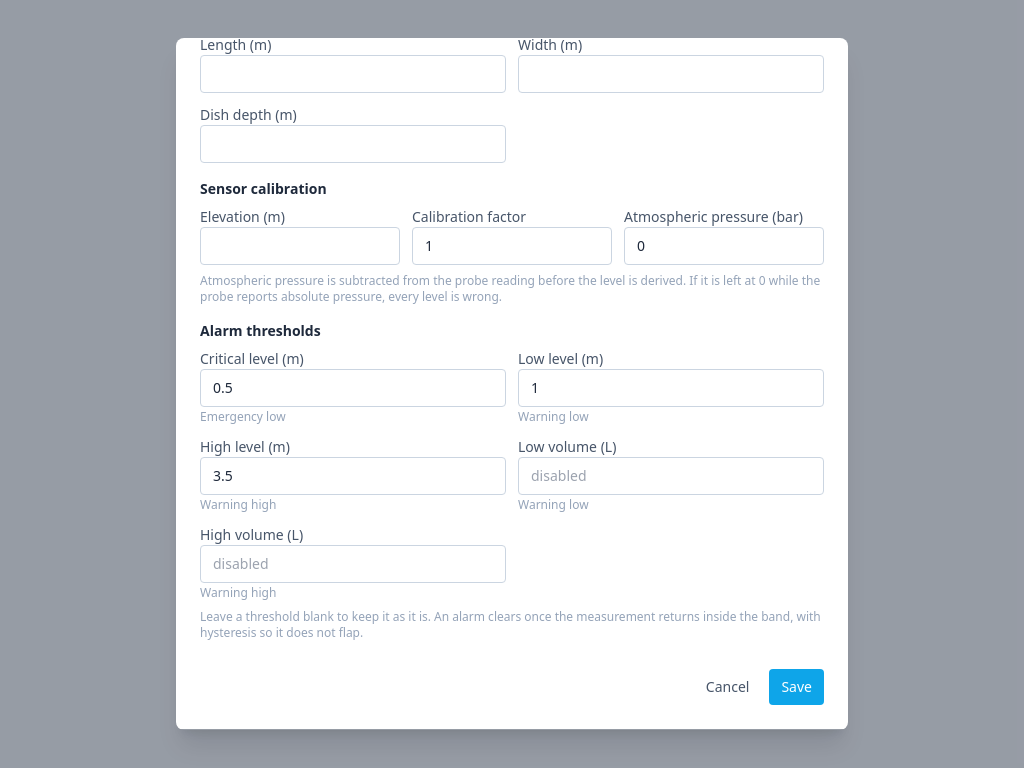
Test case: EditTankDialog › refuses a critical level above the low level and explains why
(page scrolled)
Replace the text in the number field labelled "Critical level (m)" with "5" at (353, 388), box [200,369,506,407]
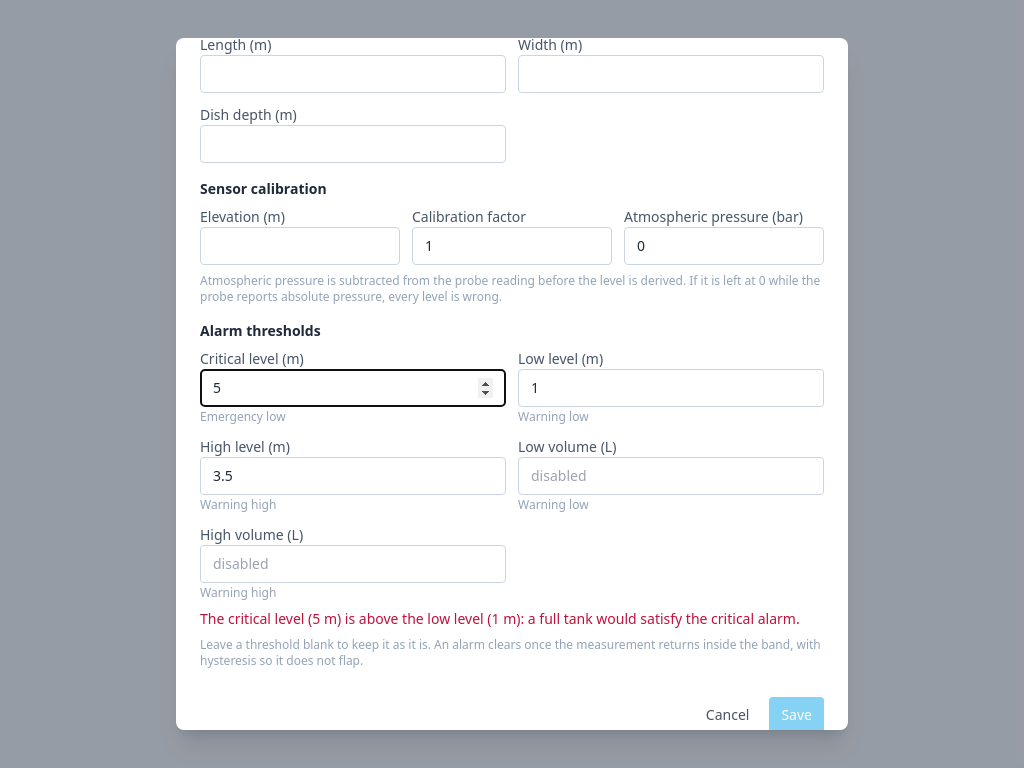
Now the message shows "critical level (5 m) is above the low level (1 m)", box [200,609,824,629]
Now the button "Save" is disabled, box [769,697,824,730]
